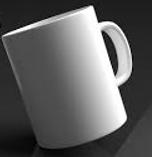cup: (0, 5, 134, 148)
